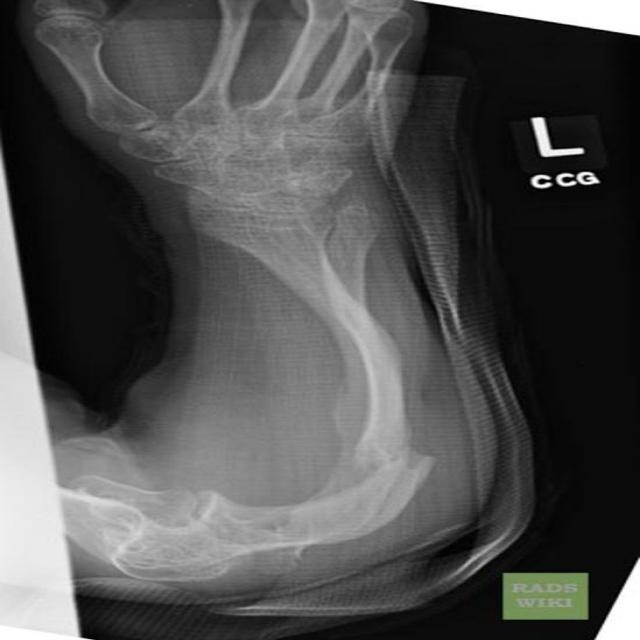fracture: (351, 435, 444, 491)
